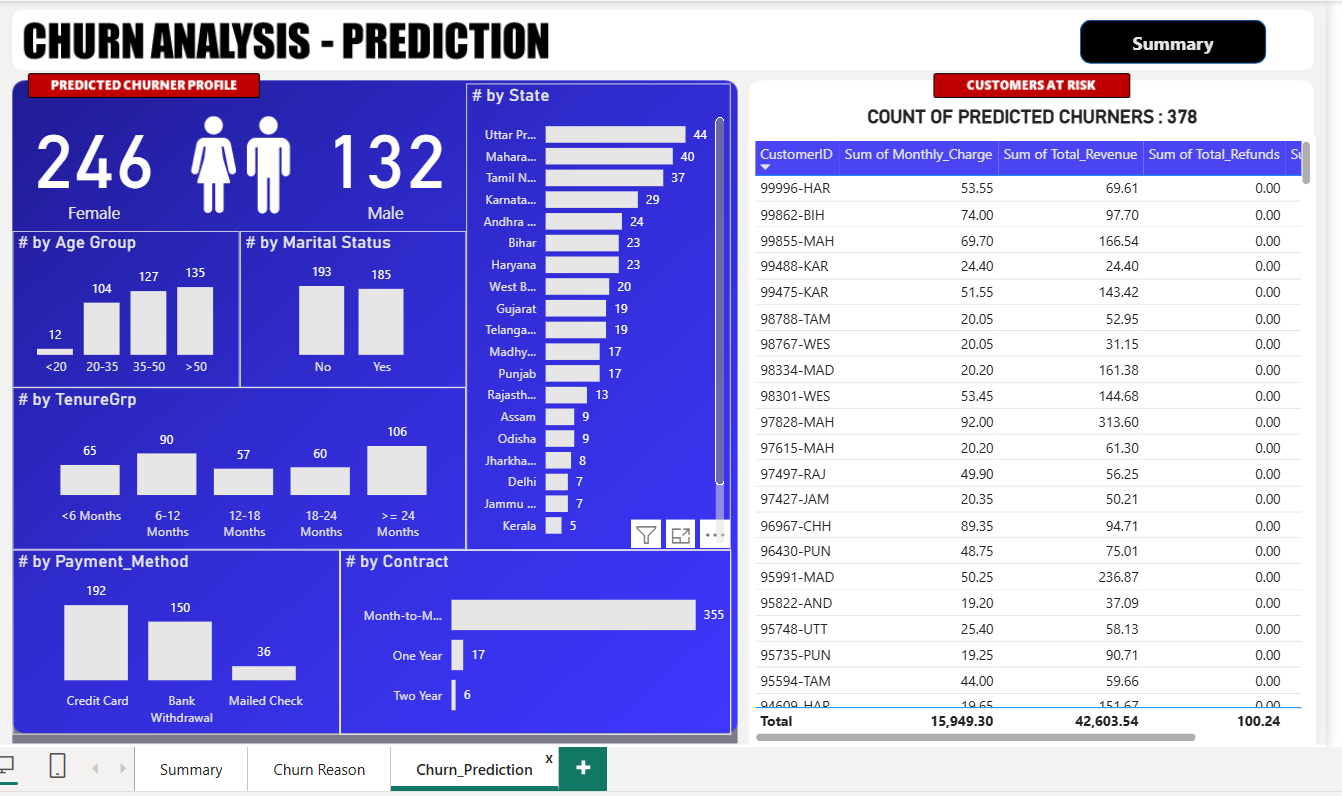

What the dashboard file says about the page in this screenshot:
{"tool":"powerbi","page":{"name":"Churn_Prediction","canvas":[1280,720],"ordinal":2},"visuals":[{"type":"tableEx","fields":{"Values":["churn_output (2).CustomerID","Sum(churn_output (2).Monthly_Charge)","Sum(churn_output (2).Total_Revenue)","Sum(churn_output (2).Total_Refunds)","Sum(churn_output (2).No_of_Referals)"]},"box":[723.2,130.4,547.5,590.1],"z":0},{"type":"card","fields":{"Values":["tbl_Measures.Title Predicted Churner"]},"box":[771.2,94.7,451.5,35.7],"z":1000},{"type":"card","fields":{"Values":["tbl_Measures.Count Predicted Churners"]},"box":[12.3,93.3,157.8,124.9],"z":2000},{"type":"card","fields":{"Values":["tbl_Measures.Count Predicted Churners"]},"box":[296.4,93.3,150.9,124.9],"z":3000},{"type":"clusteredColumnChart","fields":{"Category":["Mapping_AgeGrp.Age Group"],"Y":["CountNonNull(Predictions.CustomerID)"]},"box":[12.3,222.3,219.6,150.9],"z":4000},{"type":"clusteredColumnChart","fields":{"Category":["Predictions.Married"],"Y":["CountNonNull(Predictions.CustomerID)"]},"box":[231.9,222.3,218.2,150.9],"z":5000},{"type":"clusteredColumnChart","fields":{"Y":["CountNonNull(Predictions.CustomerID)"],"Category":["Mapping_TenureGrp.TenureGrp"]},"box":[12.3,373.2,437.7,156.4],"z":6000},{"type":"clusteredColumnChart","fields":{"Y":["CountNonNull(Predictions.CustomerID)"],"Category":["Predictions.Payment_Method"]},"box":[12.3,529.7,315.6,178.4],"z":7000},{"type":"clusteredBarChart","fields":{"Category":["Predictions.Contract"],"Y":["CountNonNull(Predictions.CustomerID)"]},"box":[328,529.7,377.4,178.4],"z":8000},{"type":"clusteredBarChart","fields":{"Category":["Predictions.State"],"Y":["CountNonNull(Predictions.CustomerID)"]},"box":[450.1,79.6,255.2,450.1],"z":9000},{"type":"image","box":[167.4,93.3,129,129],"z":10000},{"type":"shape","box":[1042.9,17.8,179.8,42.5],"z":11000}]}

Visuals, with their boxes on the page's 1280x720 design canvas (x1, y1, x2, y2). These are canvas units, not pixel positions in the 1342x796 screenshot, which may show the page scaled, cropped or inside an application window:
tableEx - churn_output (2).CustomerID x Sum(churn_output (2).Monthly_Charge): box(723, 130, 1271, 720)
card - tbl_Measures.Title Predicted Churner: box(771, 95, 1223, 130)
card - tbl_Measures.Count Predicted Churners: box(12, 93, 170, 218)
card - tbl_Measures.Count Predicted Churners: box(296, 93, 447, 218)
clusteredColumnChart - Mapping_AgeGrp.Age Group x CountNonNull(Predictions.CustomerID): box(12, 222, 232, 373)
clusteredColumnChart - Predictions.Married x CountNonNull(Predictions.CustomerID): box(232, 222, 450, 373)
clusteredColumnChart - CountNonNull(Predictions.CustomerID) x Mapping_TenureGrp.TenureGrp: box(12, 373, 450, 530)
clusteredColumnChart - CountNonNull(Predictions.CustomerID) x Predictions.Payment_Method: box(12, 530, 328, 708)
clusteredBarChart - Predictions.Contract x CountNonNull(Predictions.CustomerID): box(328, 530, 705, 708)
clusteredBarChart - Predictions.State x CountNonNull(Predictions.CustomerID): box(450, 80, 705, 530)
image: box(167, 93, 296, 222)
shape: box(1043, 18, 1223, 60)
